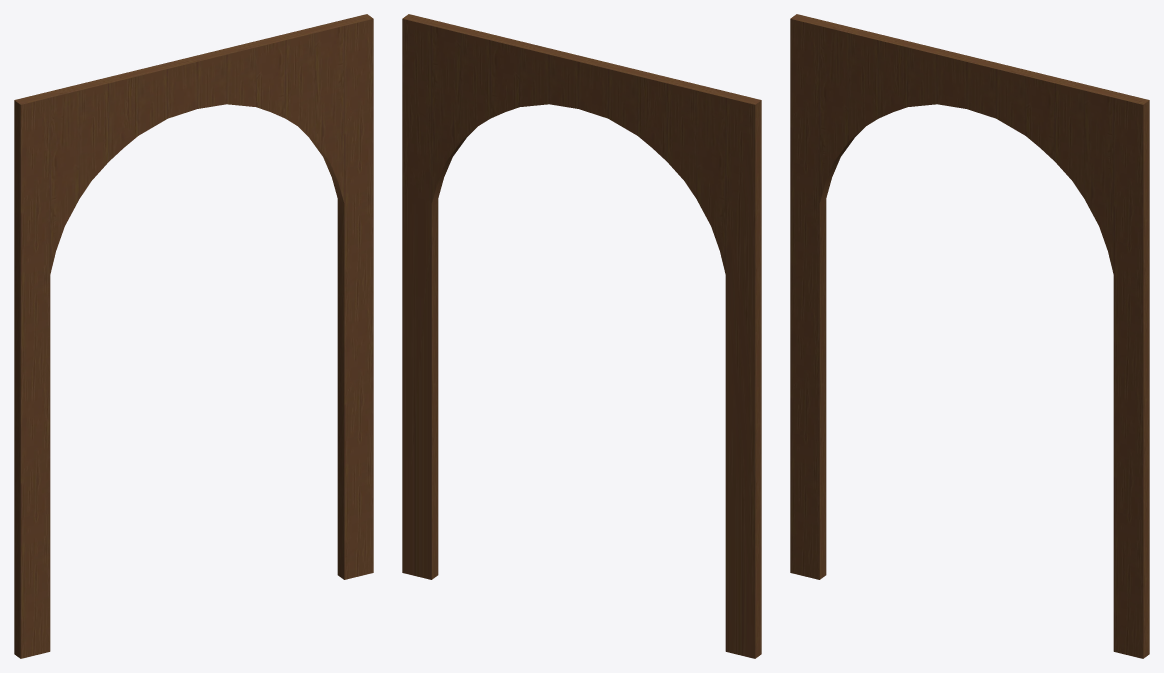
The model's file is Wall_Arch.glb.
3 renders of one model, left to right at view 1: azimuth 30°, elevation 25°; view 2: azimuth 150°, elevation 25°; view 3: azimuth 330°, elevation 25°, orthographic.
Parts seen in each view (by area): view 1: Wall_Arch; view 2: Wall_Arch; view 3: Wall_Arch.
Boxes of the visible parts, left/top/right/bottom form: Wall_Arch: left=14, top=14, right=373, bottom=658; Wall_Arch: left=402, top=14, right=761, bottom=658; Wall_Arch: left=790, top=14, right=1149, bottom=658.
Size of the model in its own units: 2 by 3 by 0.064.
Materials: 1 (1 with a texture image).
